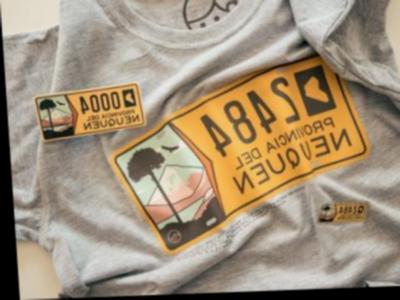License_Plate: (108, 41, 378, 264)
